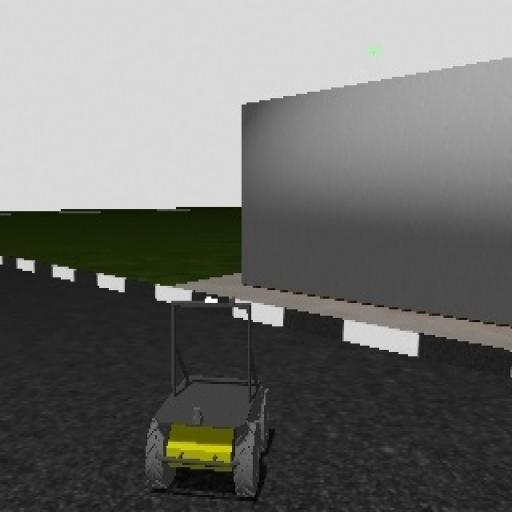huskya200: (152, 298, 270, 512)
